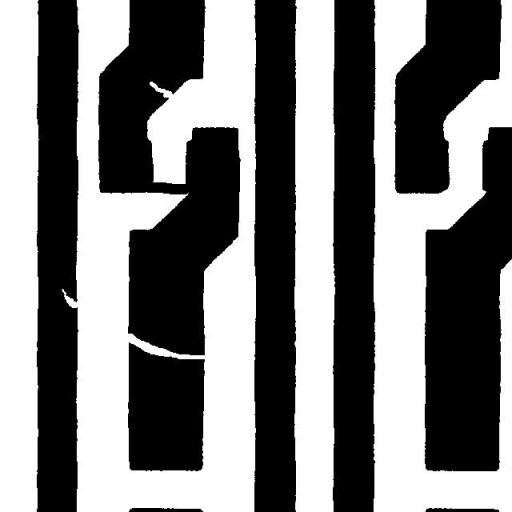mousebite: (142, 74, 180, 104), (54, 281, 86, 315)
open: (114, 322, 218, 366)
short: (135, 174, 198, 202)
